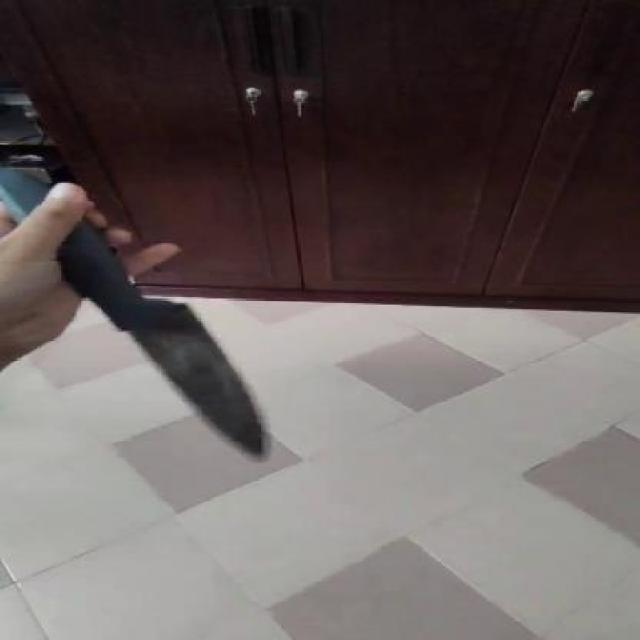knife: (94, 301, 291, 454)
